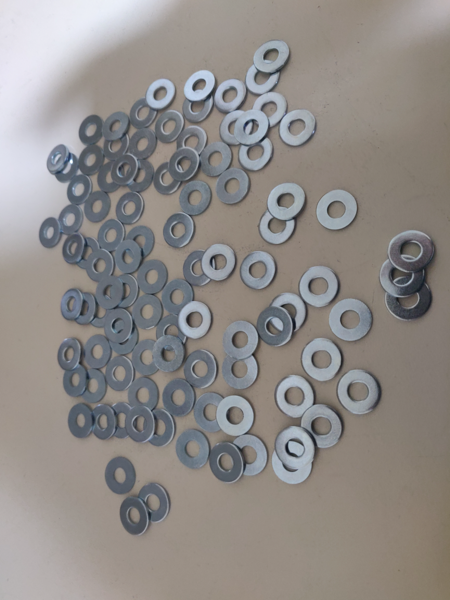circle: (385, 276, 435, 321), (387, 230, 435, 274), (379, 255, 427, 298), (338, 370, 383, 415), (330, 298, 374, 342), (301, 404, 344, 448), (301, 338, 343, 382), (299, 265, 341, 308), (317, 189, 360, 231), (275, 375, 316, 419), (272, 442, 314, 484), (256, 306, 296, 349), (268, 292, 308, 334), (276, 427, 317, 467), (217, 394, 256, 436), (268, 181, 308, 221), (239, 250, 277, 292), (221, 352, 261, 391), (232, 435, 270, 476), (210, 442, 247, 484), (258, 206, 296, 246), (177, 298, 213, 340), (176, 429, 211, 471), (237, 136, 276, 173), (138, 482, 172, 524), (280, 109, 317, 147), (252, 91, 290, 128), (194, 393, 229, 433), (160, 277, 196, 315), (223, 321, 259, 359), (216, 168, 252, 206), (177, 179, 213, 216), (245, 59, 281, 96), (235, 109, 271, 146), (199, 141, 235, 178), (155, 313, 190, 351), (162, 378, 196, 417), (118, 496, 151, 536), (218, 109, 254, 145), (202, 244, 237, 281), (142, 409, 177, 446), (185, 350, 219, 388), (103, 355, 136, 394), (213, 78, 249, 113), (162, 212, 196, 249), (105, 457, 137, 496), (152, 160, 186, 196), (253, 40, 290, 73), (124, 405, 155, 444), (184, 250, 216, 287), (153, 335, 185, 372), (107, 401, 138, 439), (133, 339, 164, 377), (169, 147, 202, 181), (127, 378, 160, 412), (152, 109, 184, 144), (137, 258, 168, 294), (66, 402, 95, 440), (103, 309, 136, 342), (108, 324, 140, 358), (124, 158, 155, 193), (77, 142, 108, 177), (90, 404, 119, 441), (145, 77, 177, 110), (99, 130, 131, 163), (126, 127, 158, 160), (184, 70, 217, 102), (85, 296, 117, 329), (128, 96, 159, 130), (132, 295, 163, 329), (177, 125, 208, 158), (183, 90, 214, 123), (115, 239, 144, 274), (110, 274, 139, 309), (83, 190, 112, 224), (95, 275, 124, 309), (126, 225, 155, 259), (79, 369, 108, 403), (84, 334, 112, 369), (97, 219, 126, 252), (116, 192, 144, 226), (56, 337, 84, 371), (63, 363, 90, 398), (87, 249, 115, 282), (74, 237, 102, 270), (96, 162, 125, 193), (66, 172, 92, 206), (72, 292, 98, 326), (111, 154, 139, 185), (78, 114, 105, 145), (53, 152, 79, 184), (60, 287, 84, 321), (58, 205, 84, 236), (62, 233, 87, 265), (46, 143, 70, 176), (38, 217, 62, 250)
